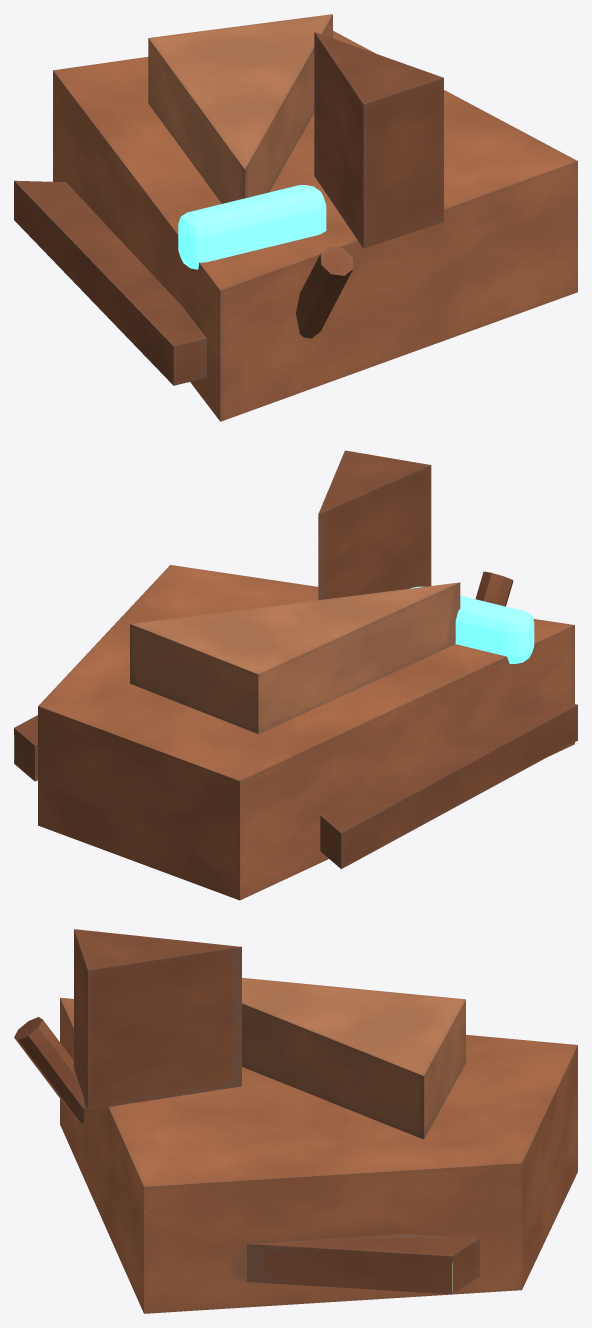
The model's file is sod_shade_raider.glb.
The picture shows the model from 3 angles, top to bottom: view 1: azimuth 30°, elevation 25°; view 2: azimuth 150°, elevation 25°; view 3: azimuth 270°, elevation 25°; orthographic projection. The views are drawn at different scales.
Parts seen in each view (by area): view 1: sod_shade_raider; view 2: sod_shade_raider; view 3: sod_shade_raider.
Boxes of the visible parts, <box> form: sod_shade_raider: <box>14,14,577,421</box>; sod_shade_raider: <box>14,450,577,900</box>; sod_shade_raider: <box>14,929,577,1313</box>.
Bounding box in the file's own units: 0.7 × 0.42 × 0.8058.
1 material, 1 textured.
